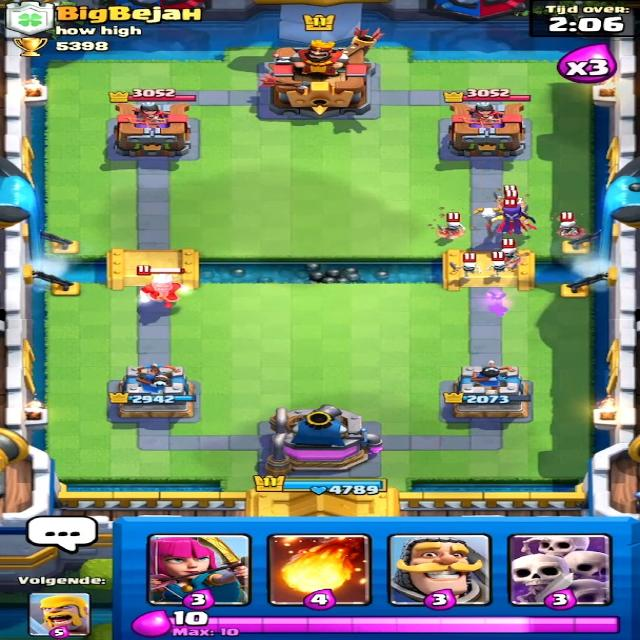Enemy_Ice_Wizard_Troop: (142, 274, 194, 311)
Enemy_Witch_Troop: (485, 203, 537, 235)
Fireball_Card: (272, 536, 362, 601)
